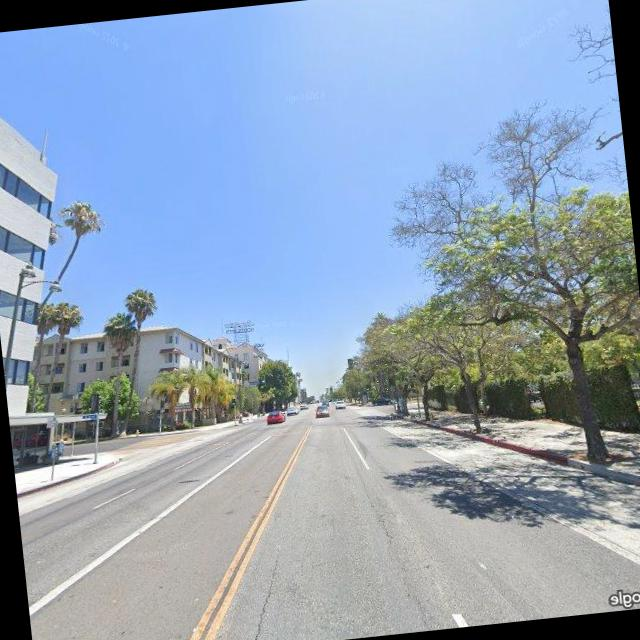pothole: (231, 548, 291, 640), (379, 514, 396, 548)
